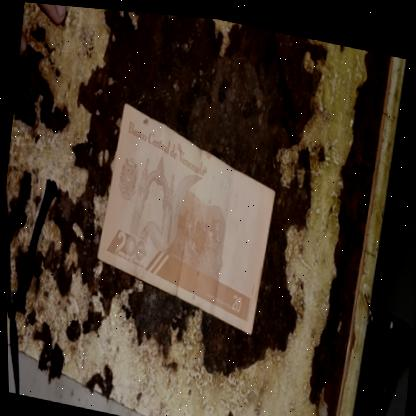twenty-back-vef: (86, 95, 283, 333)
